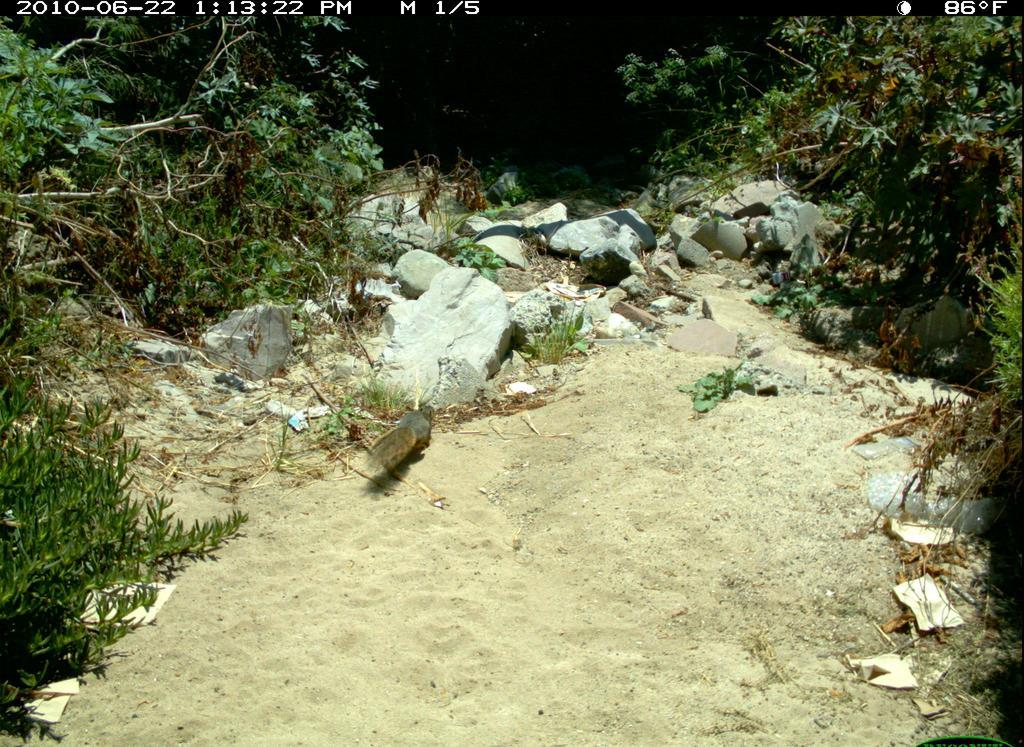squirrel: (364, 401, 443, 488)
